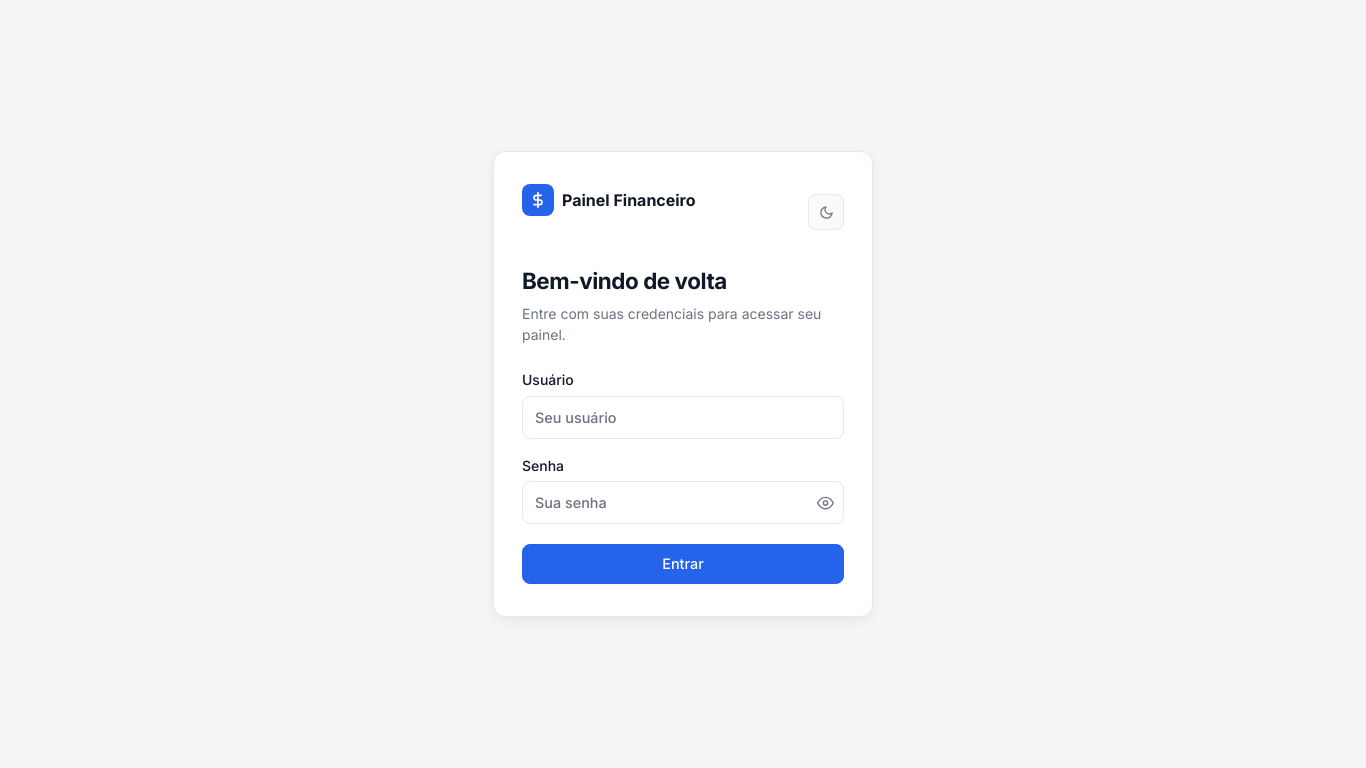
Test case: App auth flow › gates the app behind login and supports logout
In the field labelled "Usuário": (683, 417) [522, 396, 844, 439], type "igor"
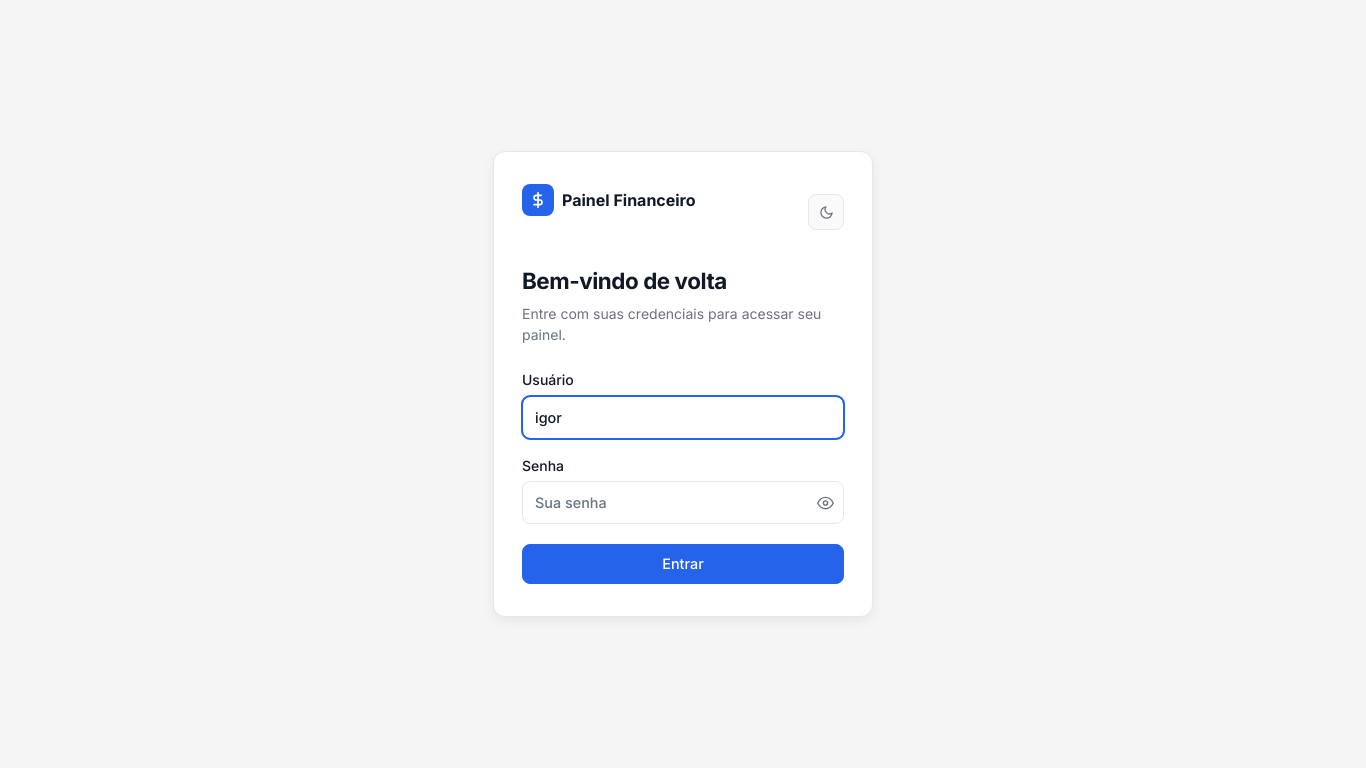
In the password field labelled "Senha": (683, 503) [522, 481, 844, 524], type "senha-segura"
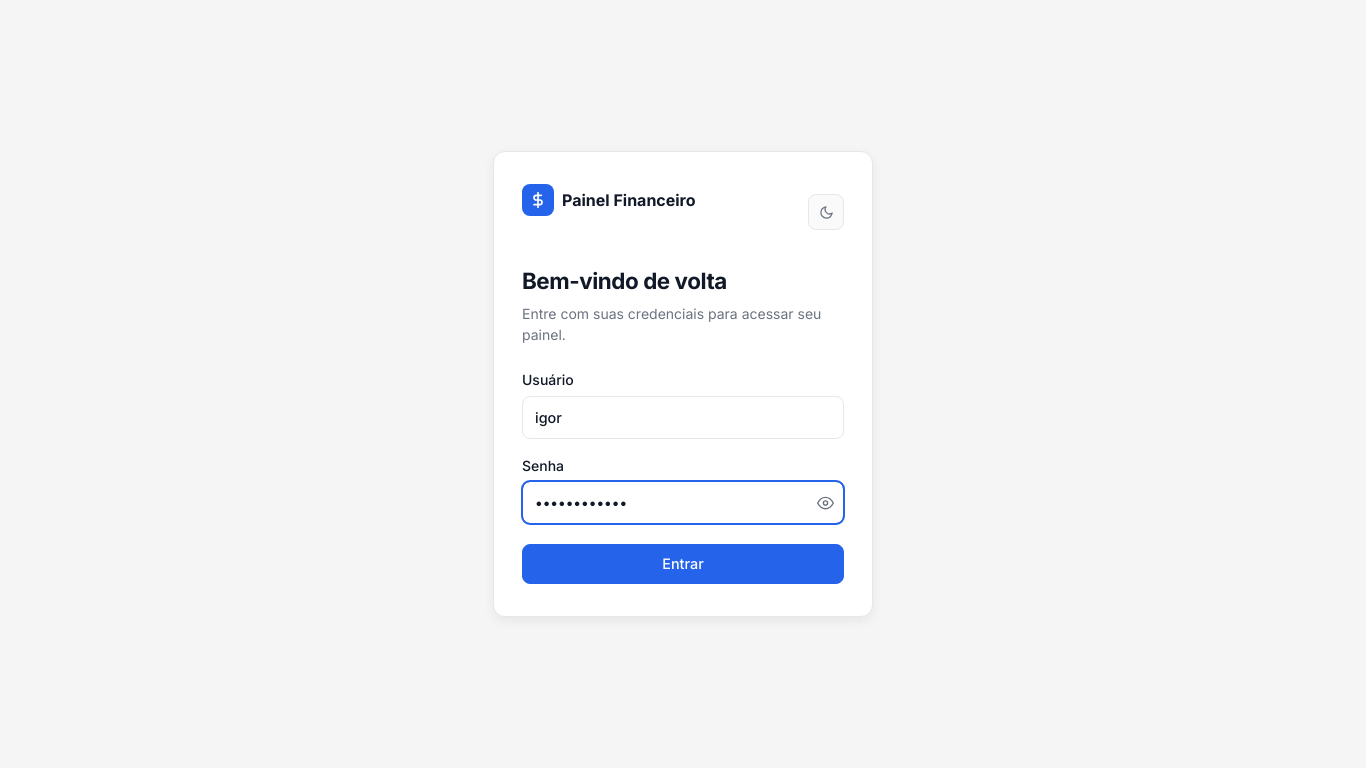
Click the button "Entrar": (683, 564) [522, 544, 844, 584]
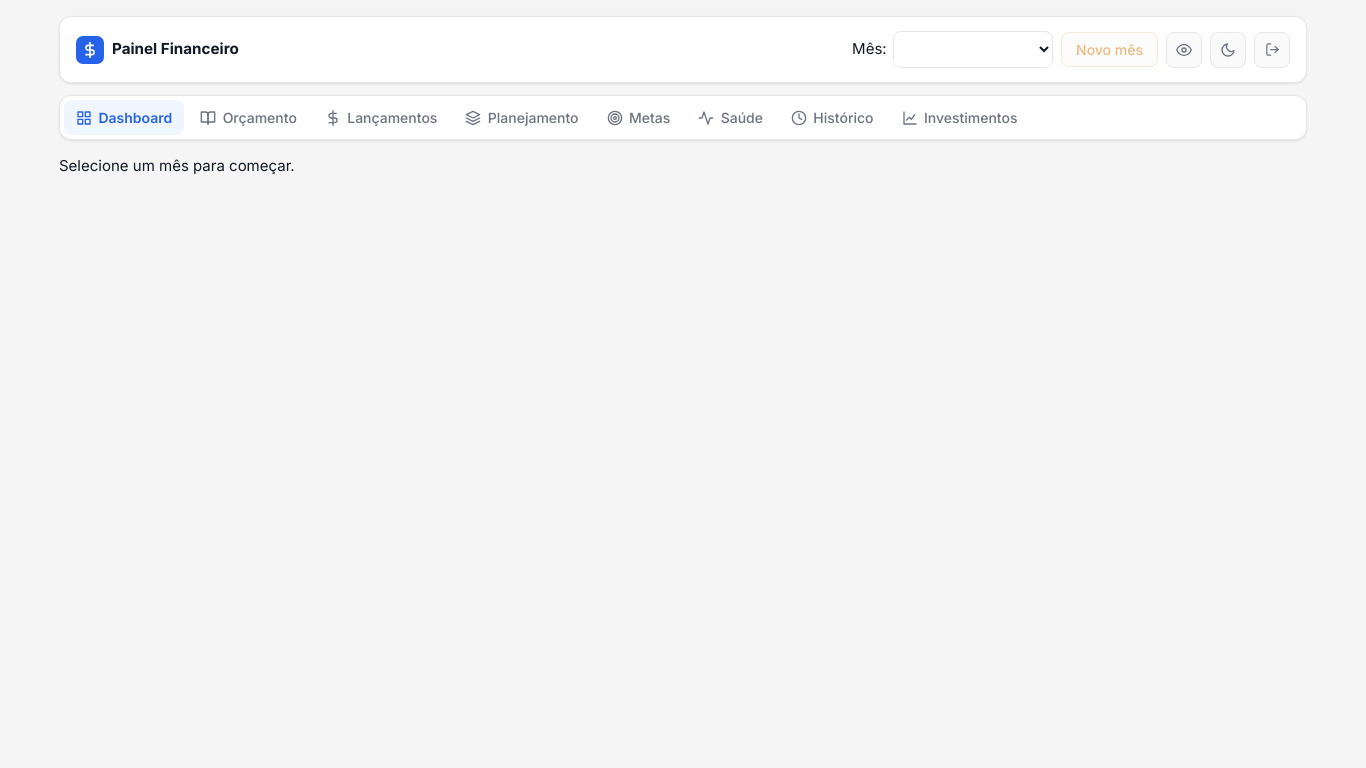
Check: the button named "sair da conta" is shown
Click the button named "sair da conta": (1272, 50) [1254, 32, 1290, 68]
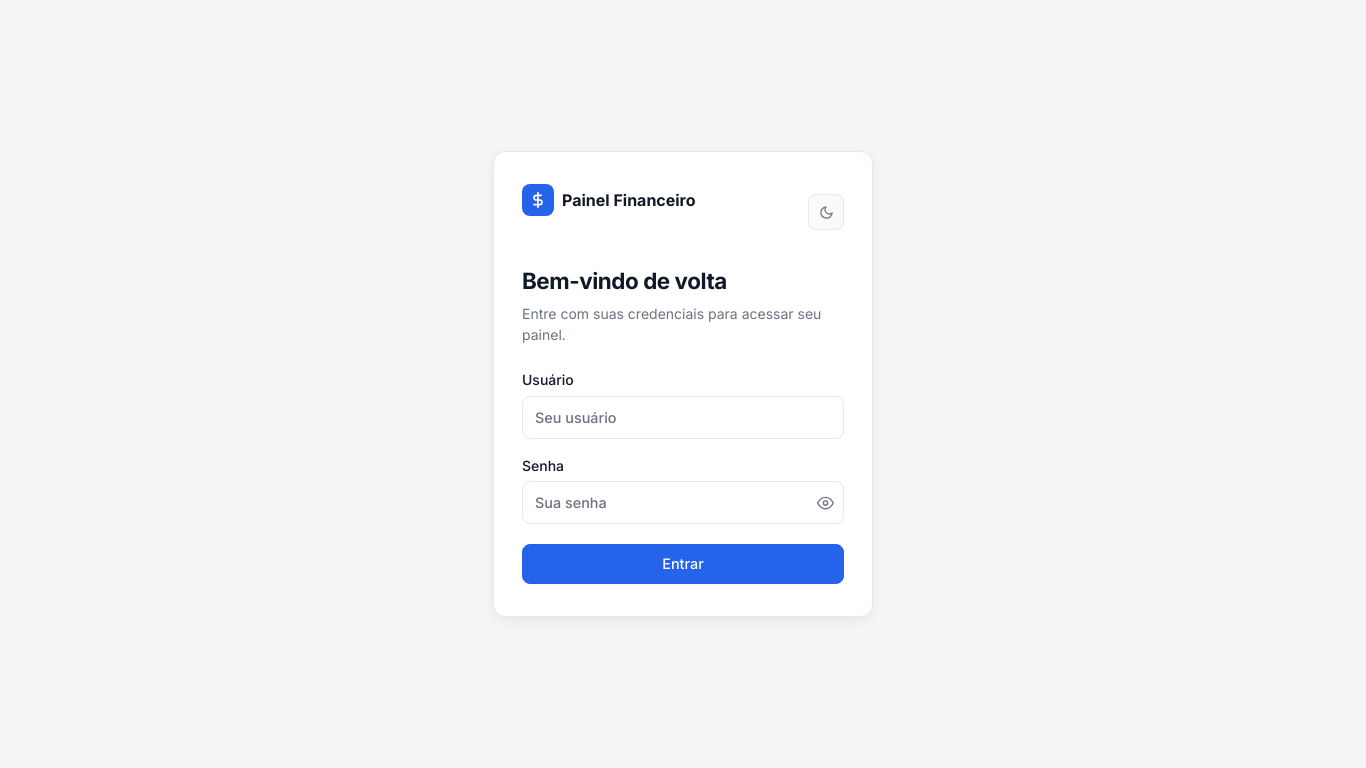
Check: the field labelled "Usuário" is shown, box [522, 396, 844, 439]
